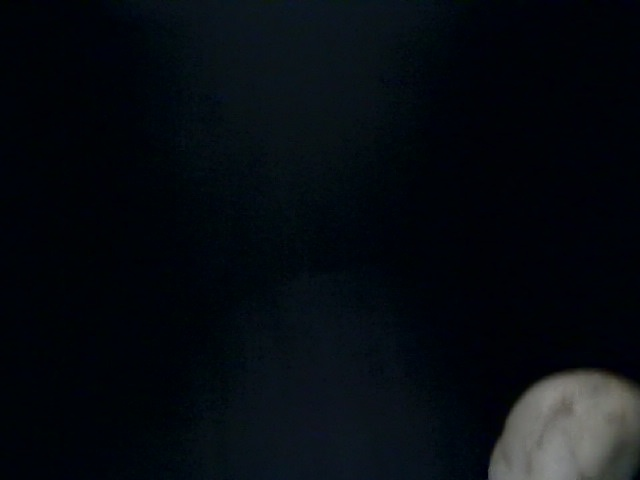QTLJ: (389, 287, 595, 461)
